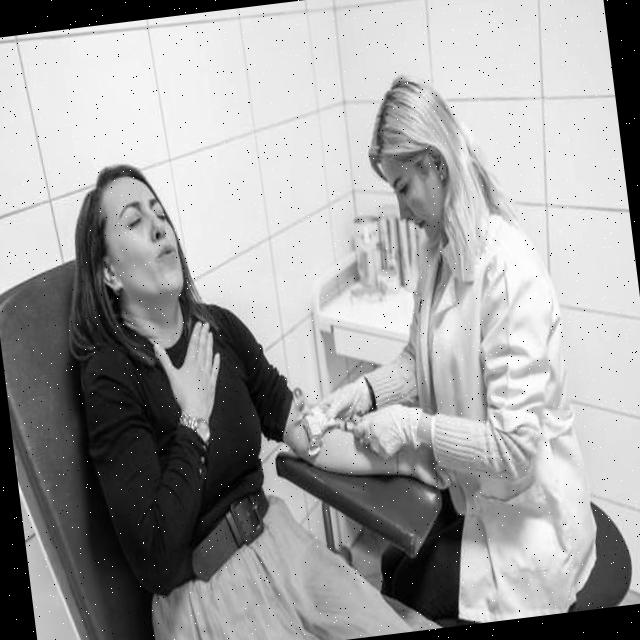Fear: (104, 175, 184, 299)
